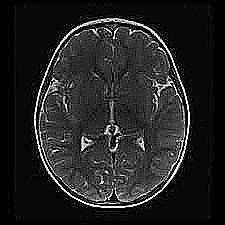Normal_Brain: (17, 8, 225, 225)
